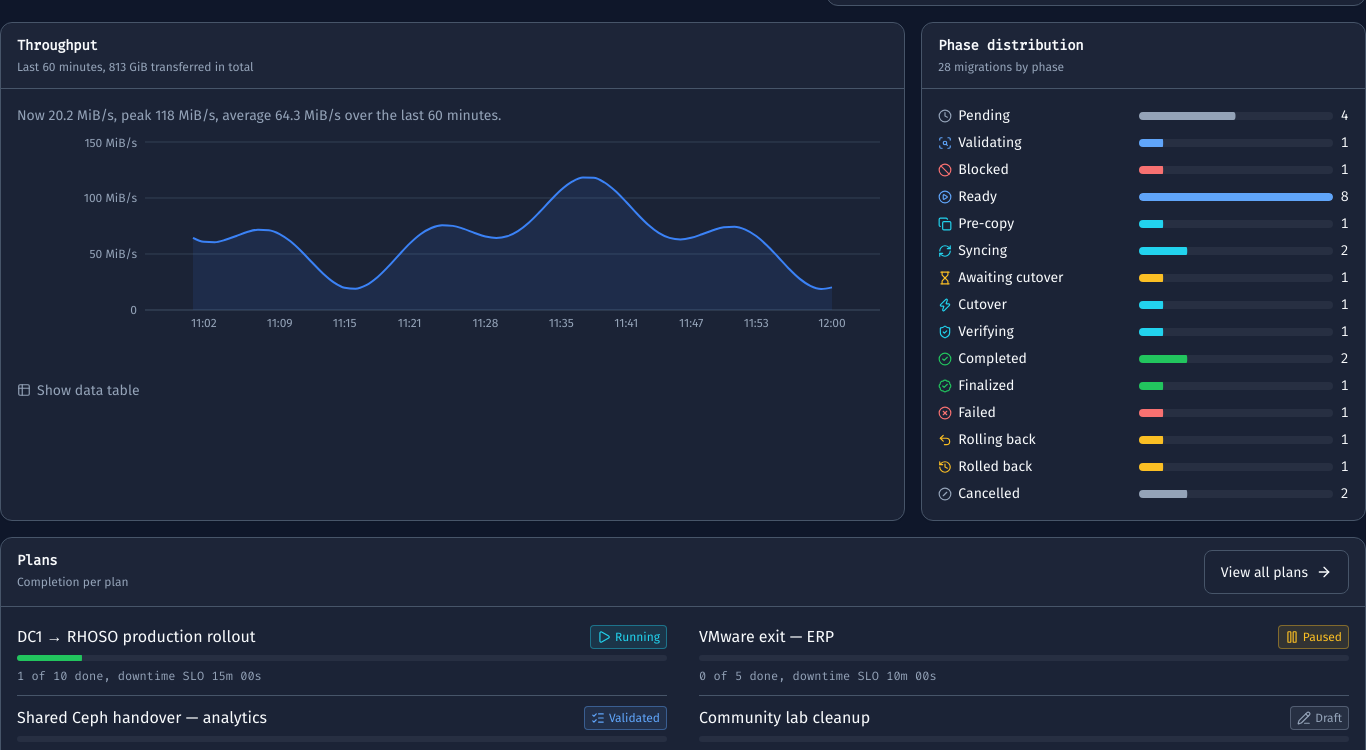
Scenario: Overview page (mock data) › offers table views of the charts
The image size is (1366, 750).
(page scrolled)
Expected: the text "peak" is shown, [17,107,501,124]
Click the text "Show data table": (88, 390) [37,380,140,400]
(page scrolled)
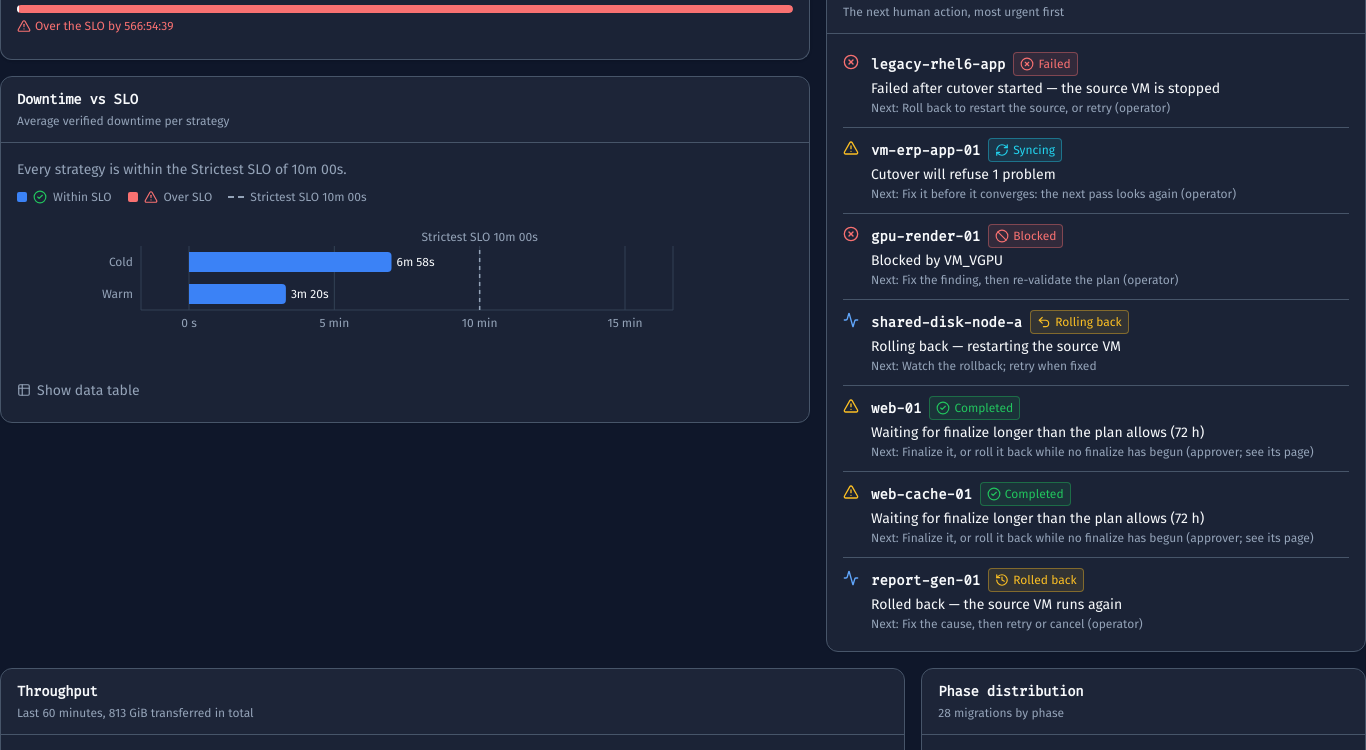
Click the text "Show data table": (88, 390) [37,380,140,400]
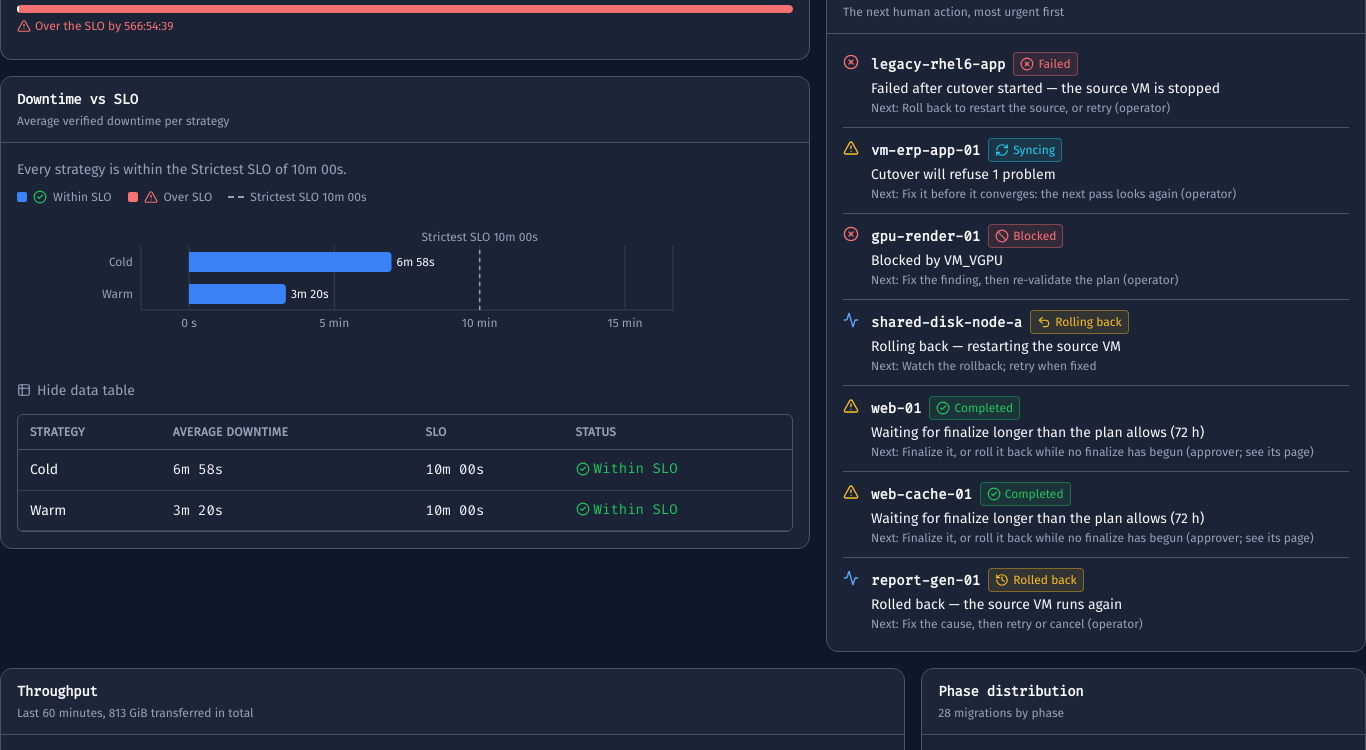
Expected: the column heading "Warm" is shown, [18,490,161,530]
